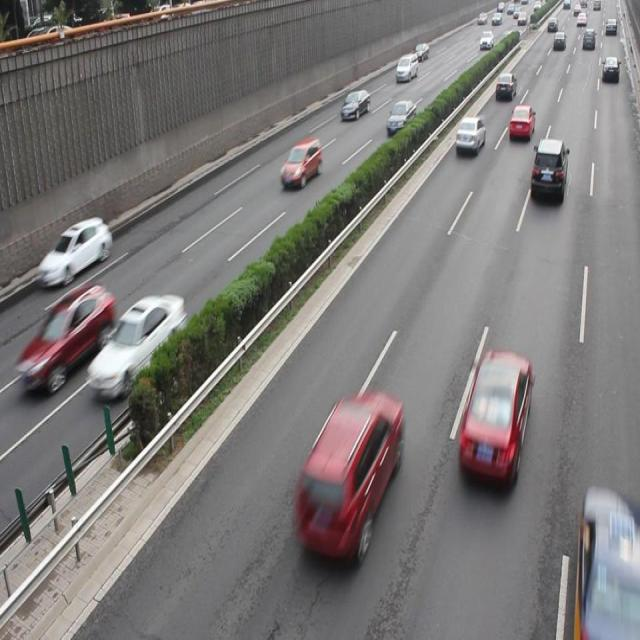car: (294, 392, 402, 555), (455, 347, 531, 493), (574, 486, 640, 640), (20, 284, 114, 392), (88, 292, 184, 397), (37, 215, 112, 286), (529, 137, 567, 201), (280, 137, 322, 188), (453, 115, 484, 155), (385, 98, 416, 136), (339, 88, 370, 121), (508, 104, 534, 142)
